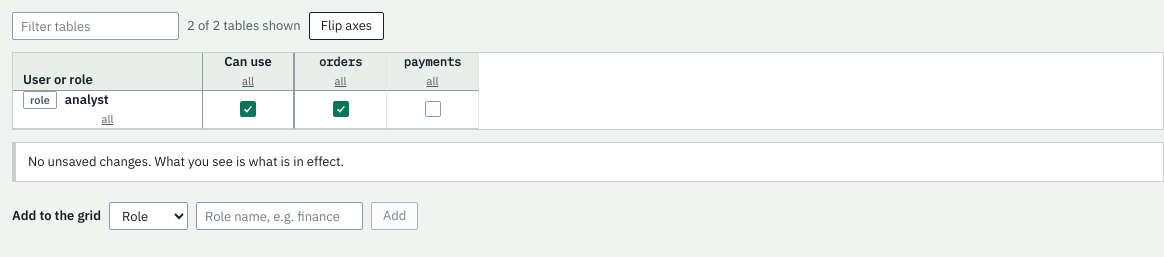
Scenario: table permissions grid › toggling back leaves nothing to save
Click the checkbox named "analyst can read payments" at (432, 109), box [424,101,440,117]
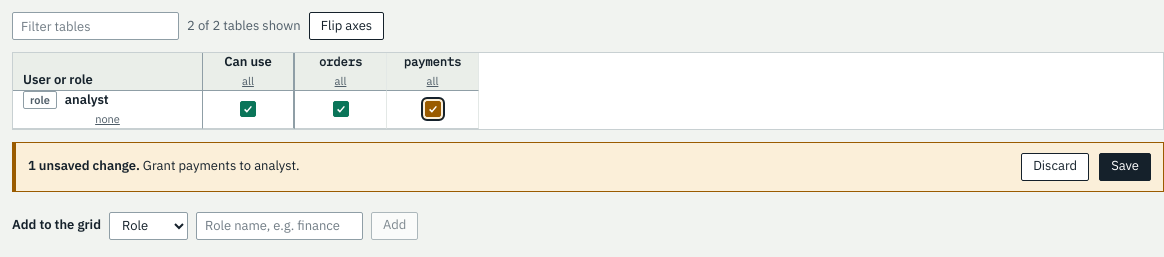
Click the checkbox named "analyst can read payments" at (432, 109), box [424,101,440,117]
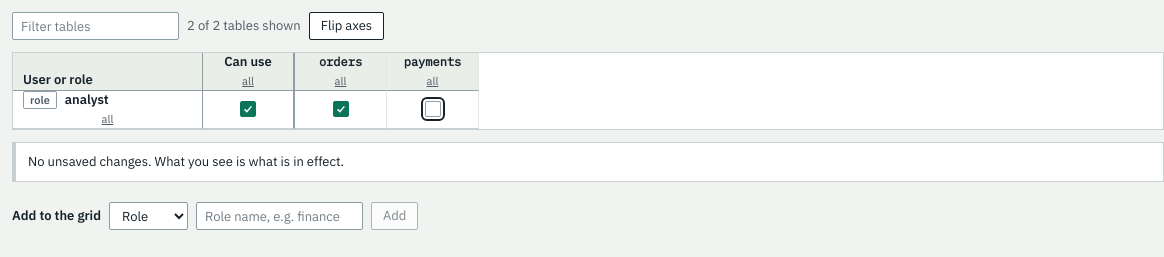
Check: the text "No unsaved changes. What you see is what is in effect." is shown, box [28,153,344,170]
